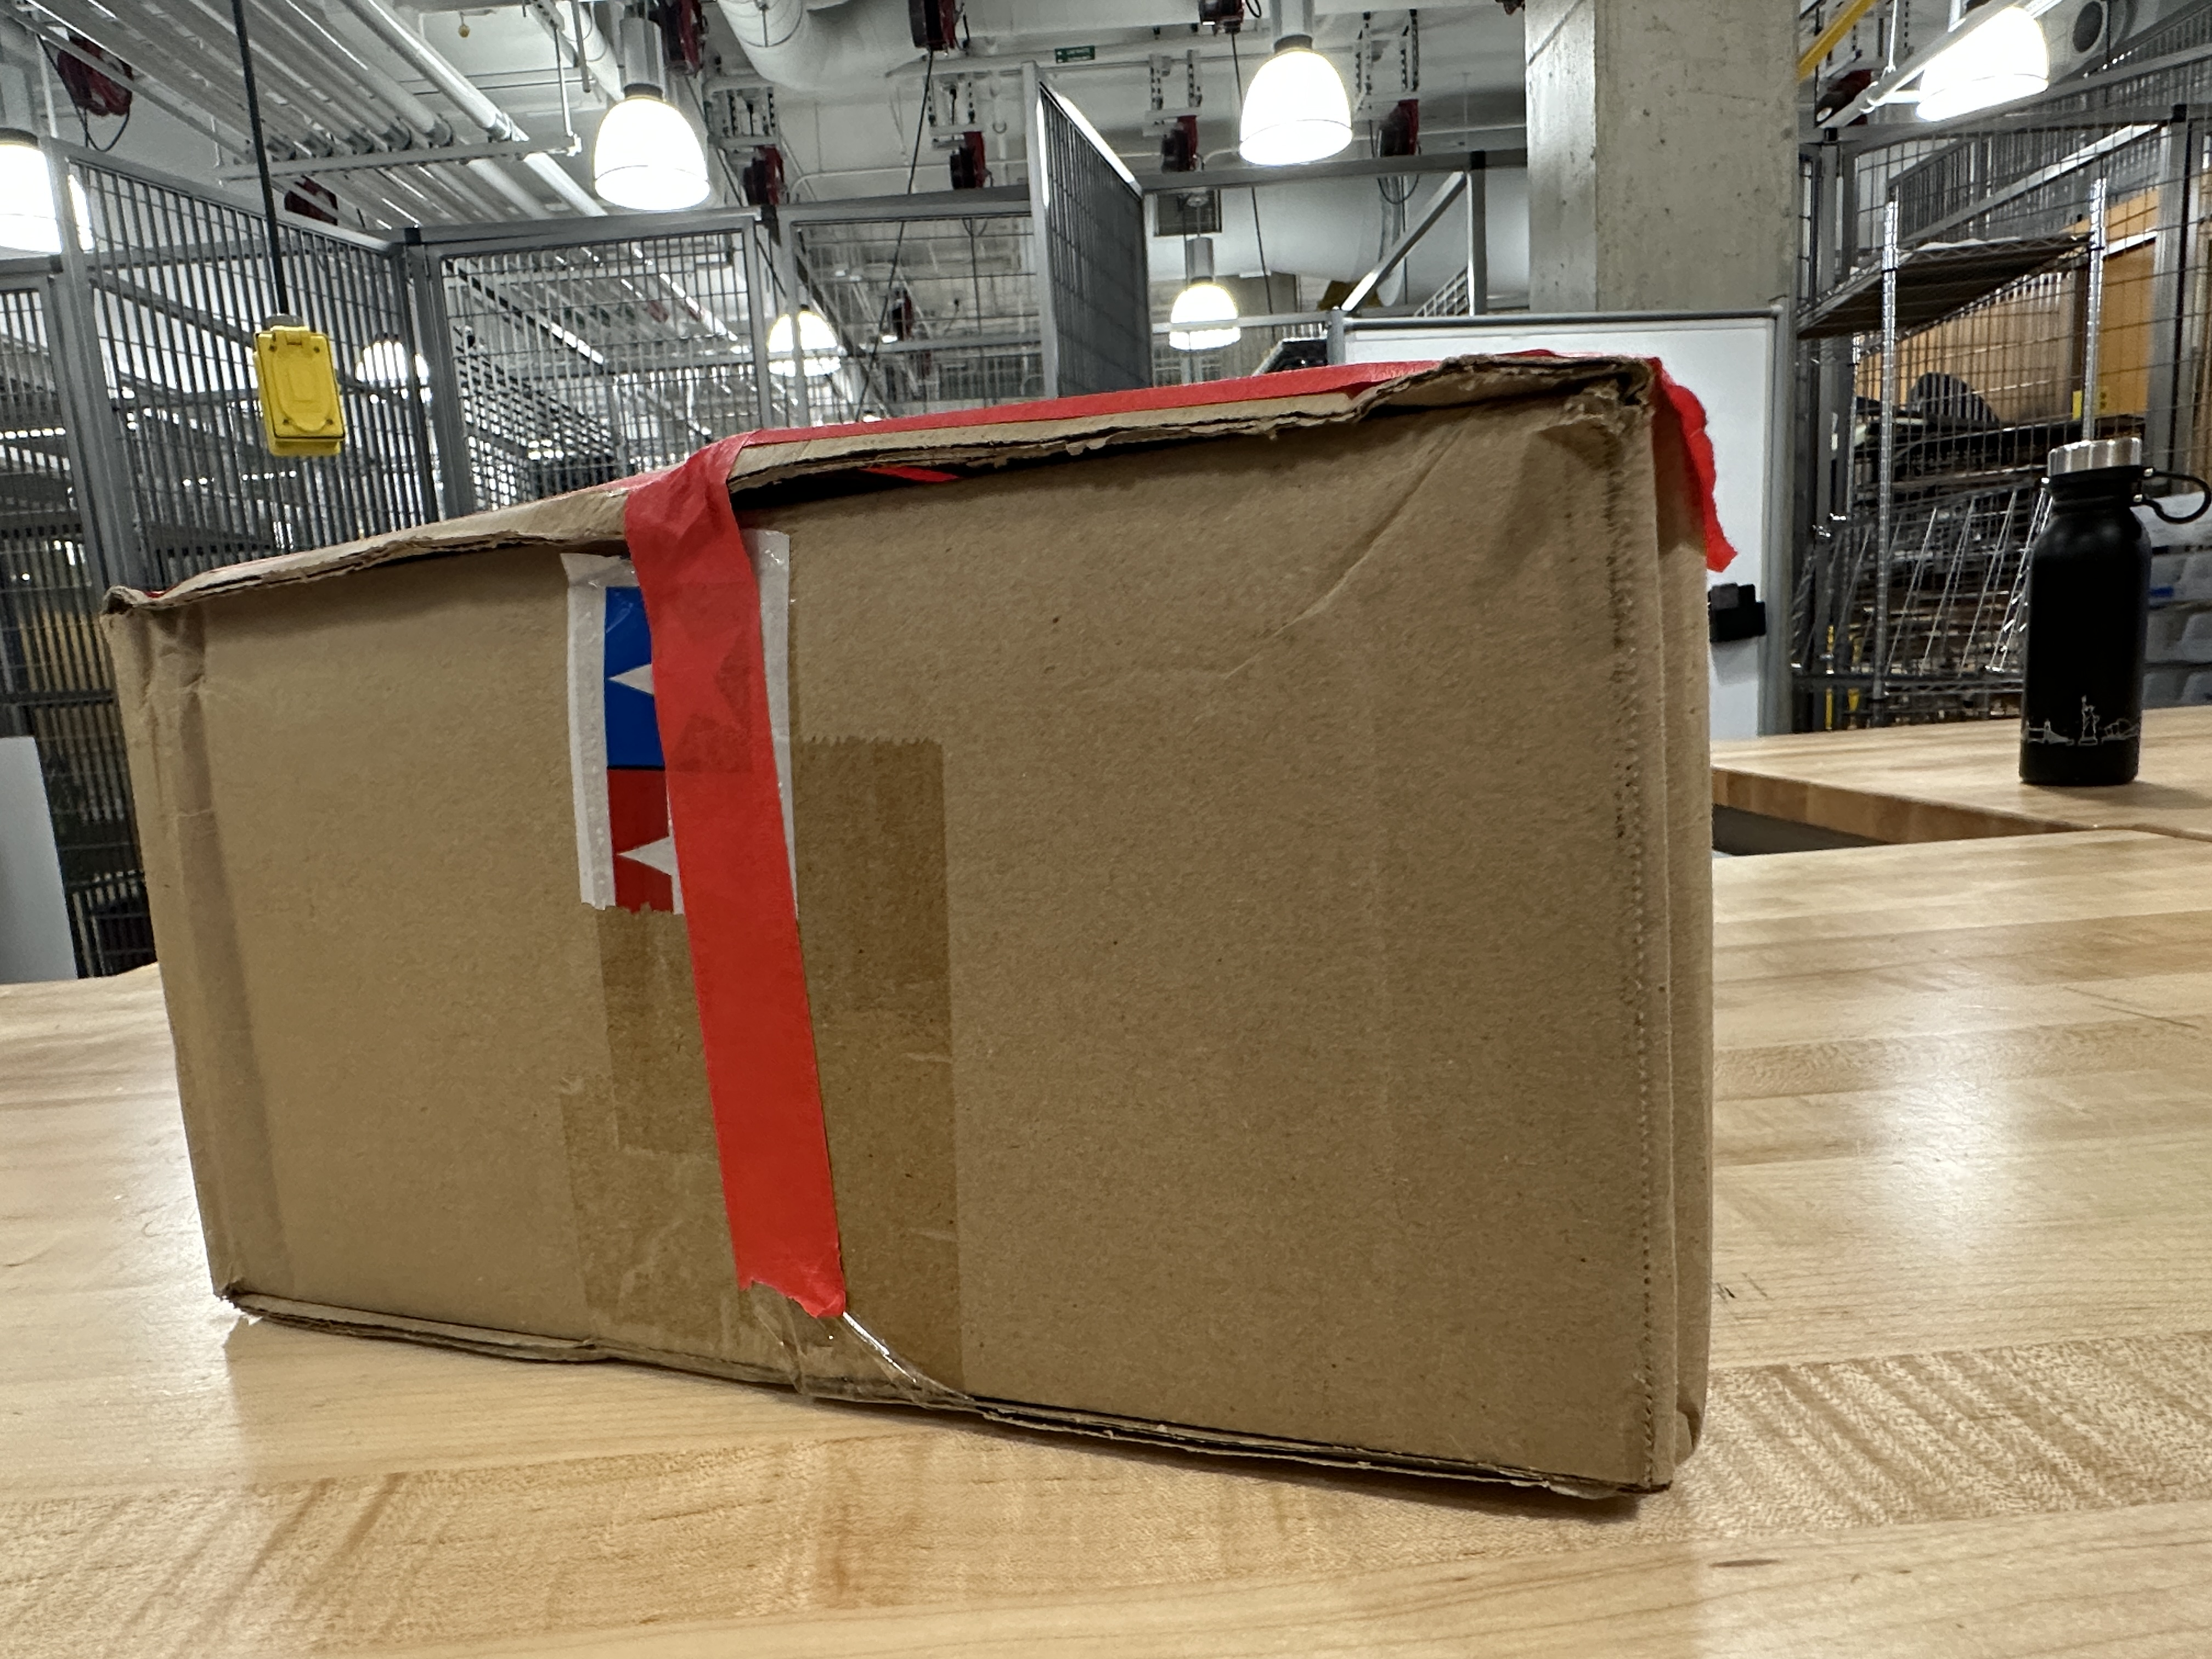Box_Obstacle: (73, 343, 1763, 1588)
